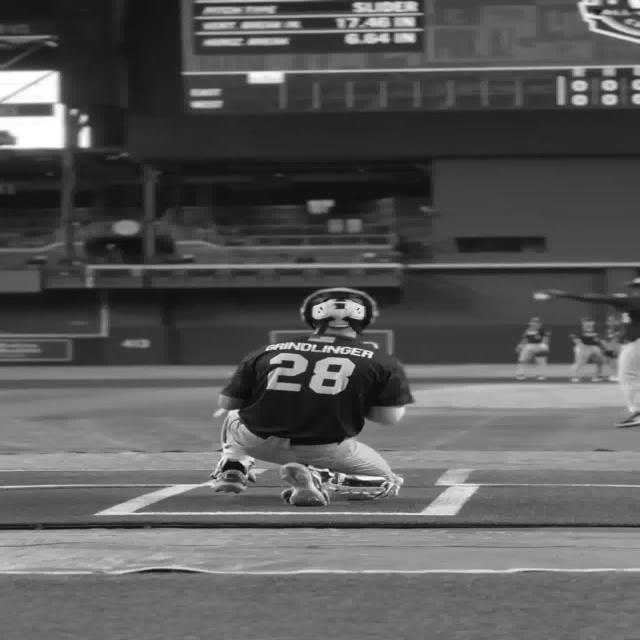baseball: (532, 292, 551, 300)
shoe: (279, 462, 329, 506), (211, 457, 255, 493), (613, 412, 639, 427)
